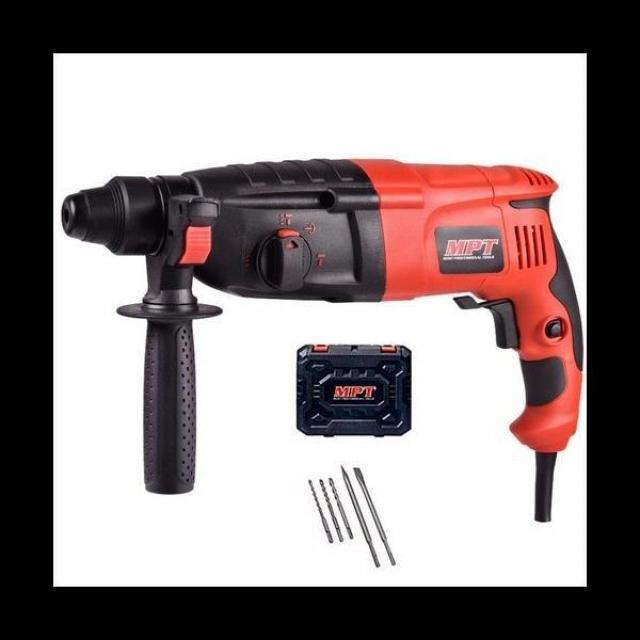drill: (61, 158, 584, 524)
